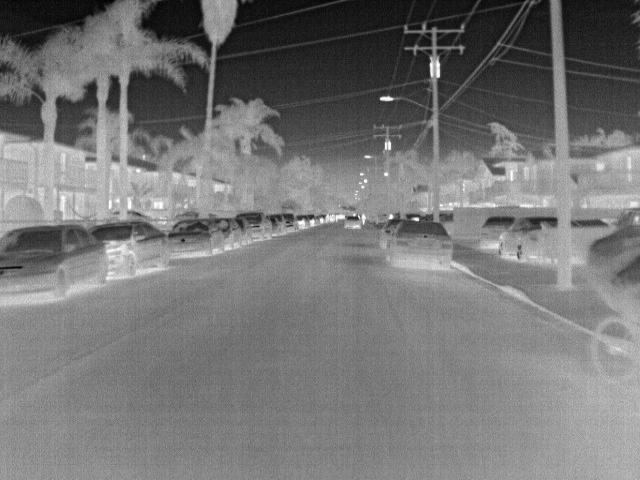car: (0, 226, 109, 306), (90, 221, 169, 282), (387, 221, 455, 270), (495, 218, 554, 262), (166, 217, 223, 257), (480, 216, 516, 250), (236, 211, 270, 241), (214, 218, 242, 248), (235, 216, 253, 244), (342, 214, 365, 230), (278, 212, 297, 229), (294, 214, 309, 228)
